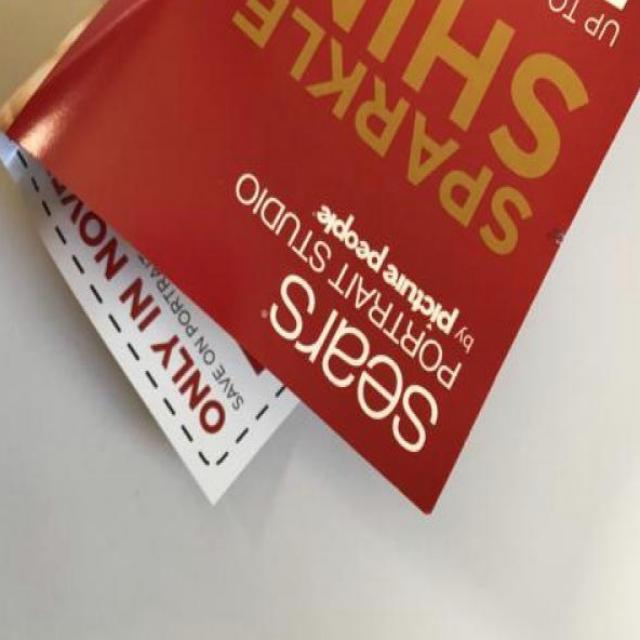cardboard paper: (5, 0, 640, 514)
